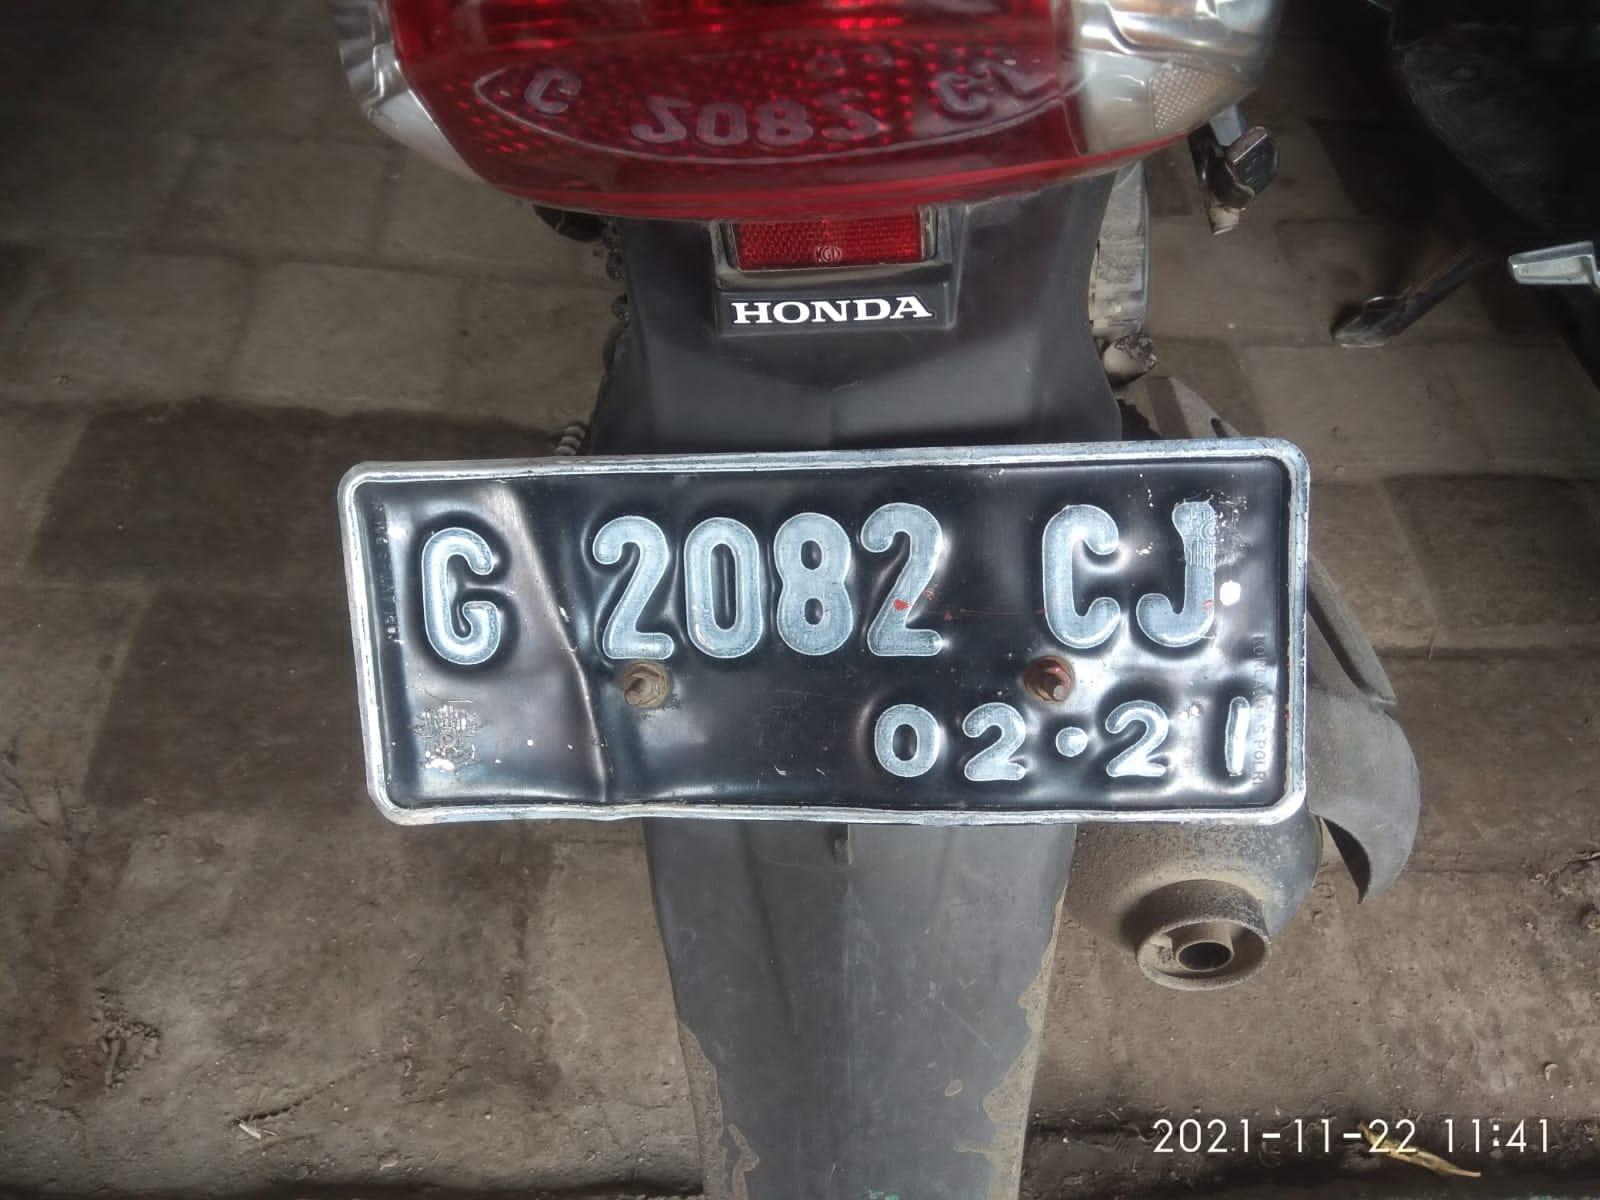plat: (340, 441, 1306, 822)
